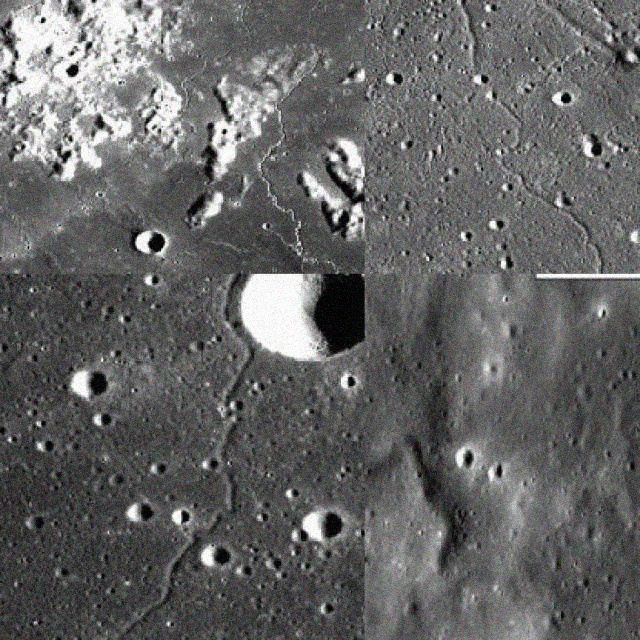crater: (11, 274, 294, 638), (369, 0, 638, 272), (0, 66, 154, 272), (255, 0, 362, 255), (365, 417, 477, 588), (364, 0, 624, 60), (175, 0, 292, 118)
